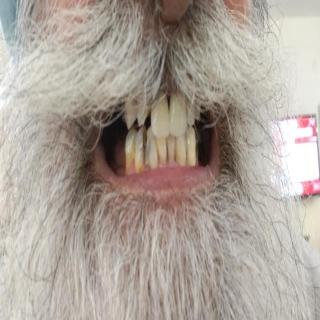calculus: (129, 139, 139, 168), (172, 142, 182, 170), (164, 142, 172, 168), (183, 149, 191, 171), (155, 147, 162, 168)
cavities: (140, 132, 152, 170)
